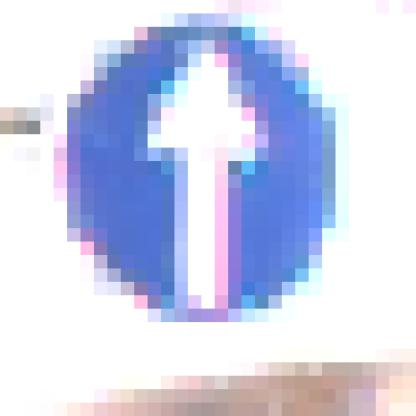AheadOnly: (68, 68, 337, 350)
